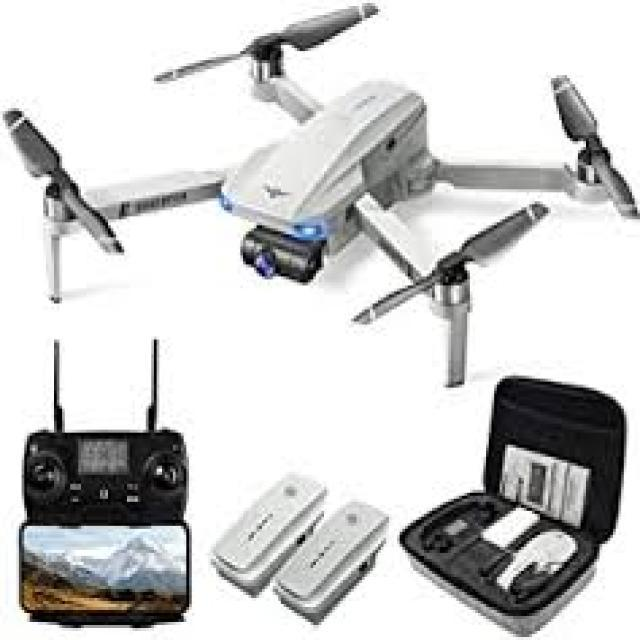drone: (0, 0, 640, 400)
